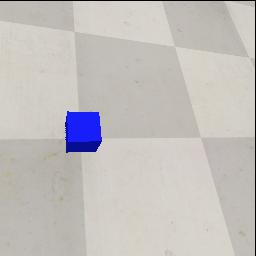box: (65, 111, 102, 153)
